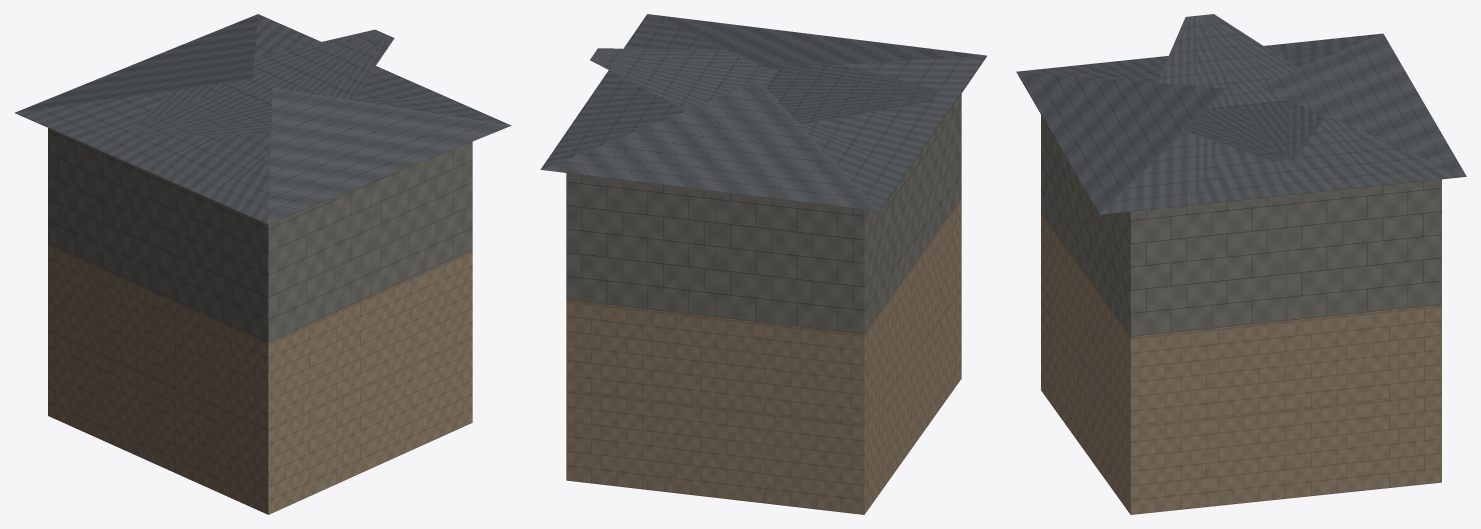
File: bld_c6_37_527.gltf
3 renders of one model, left to right at view 1: azimuth 30°, elevation 25°; view 2: azimuth 150°, elevation 25°; view 3: azimuth 270°, elevation 25°, orthographic. The views are drawn at different scales.
Parts seen in each view (by area): view 1: bld_c6_37_527; view 2: bld_c6_37_527; view 3: bld_c6_37_527.
Boxes of the visible parts, <box> form: bld_c6_37_527: <box>15,14,511,514</box>; bld_c6_37_527: <box>540,14,986,514</box>; bld_c6_37_527: <box>1016,14,1466,514</box>.
Size of the model in its own units: 10.47 by 9.4 by 10.99.
Materials: 3 (3 with a texture image).
